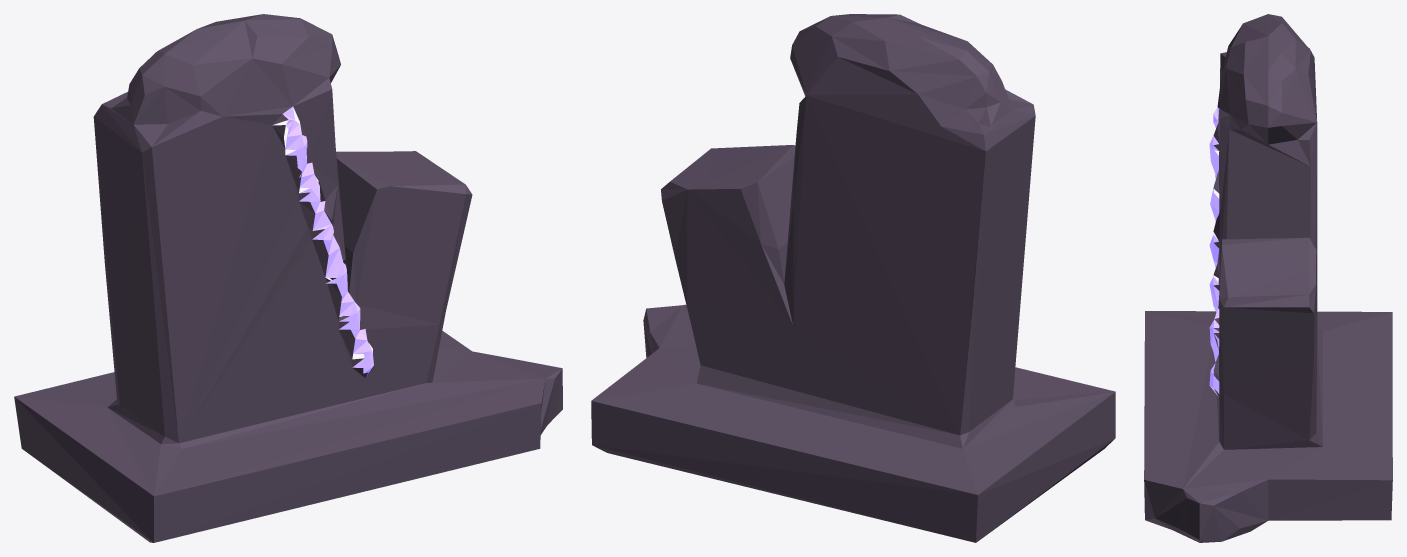
The model's file is gravestone_cracked.glb.
3 renders of one model, left to right at view 1: azimuth 30°, elevation 25°; view 2: azimuth 150°, elevation 25°; view 3: azimuth 270°, elevation 25°, orthographic. The views are drawn at different scales.
Parts seen in each view (by area): view 1: gravestone_cracked; view 2: gravestone_cracked; view 3: gravestone_cracked.
Boxes of the visible parts, x1,y1,x2,y2 form: gravestone_cracked: (14,14,562,542); gravestone_cracked: (591,14,1115,542); gravestone_cracked: (1144,14,1392,542).
Bounding box in the file's own units: 1.02 × 0.9694 × 0.5589.
